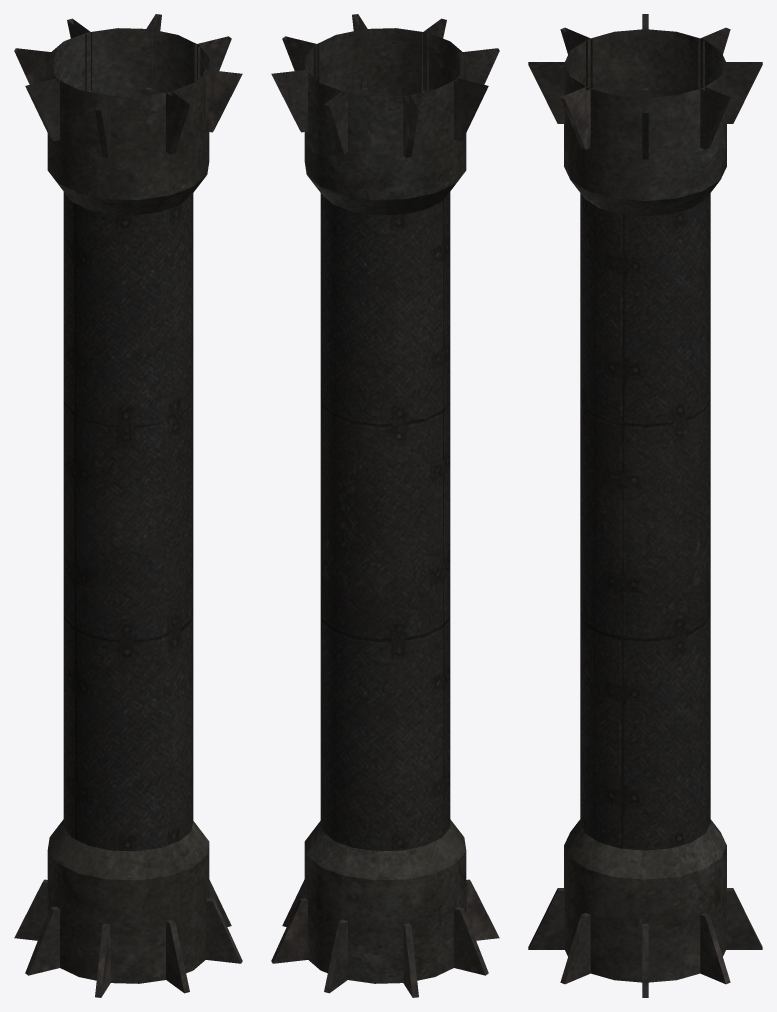
File: pillar_11.dae
3 views of the same model, side by side, from view 1: azimuth 30°, elevation 25°; view 2: azimuth 150°, elevation 25°; view 3: azimuth 270°, elevation 25° (orthographic).
Parts seen in each view (by area): view 1: pillar_11; view 2: pillar_11; view 3: pillar_11.
Boxes of the visible parts, <box> form: pillar_11: <box>14,14,242,997</box>; pillar_11: <box>271,14,499,997</box>; pillar_11: <box>528,14,762,997</box>.
Bounding box in the file's own units: 0.72 × 0.72 × 3.
3 materials, 3 textured.
